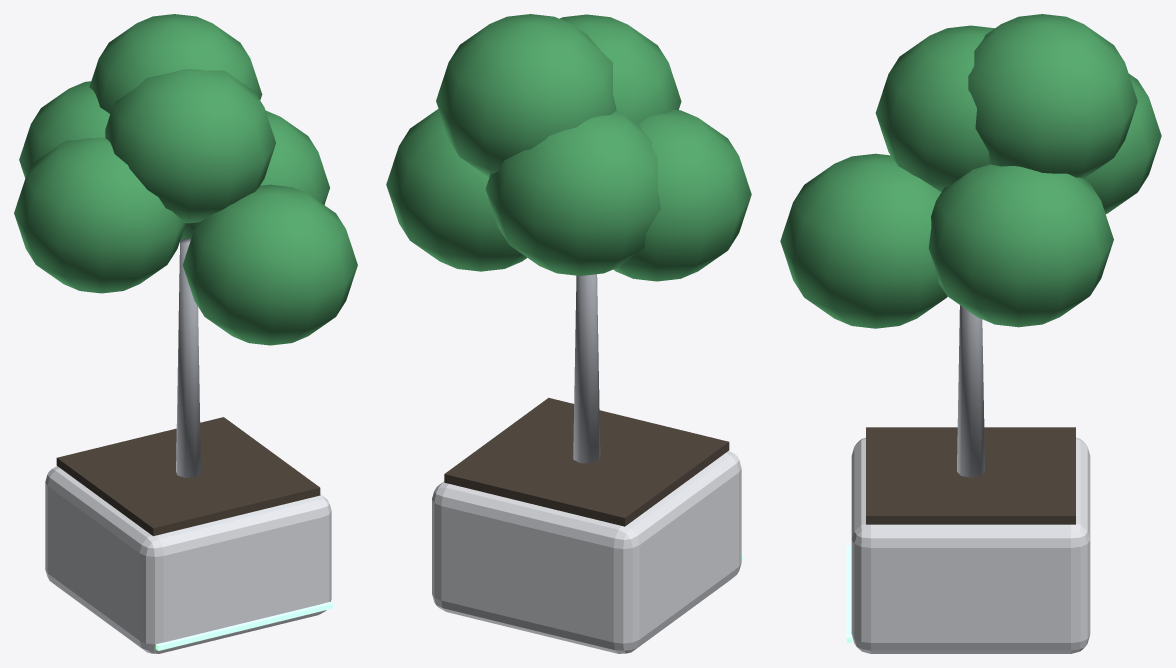
Rendered from plant_ficus_planter.glb.
The picture shows the model from 3 angles, left to right: view 1: azimuth 30°, elevation 25°; view 2: azimuth 150°, elevation 25°; view 3: azimuth 270°, elevation 25°; orthographic projection. The views are drawn at different scales.
Parts seen in each view (by area): view 1: GD_plant_ficus_planter__m4, GD_plant_ficus_planter__m0, GD_plant_ficus_planter__m1, GD_plant_ficus_planter__m3, GD_plant_ficus_planter__m2; view 2: GD_plant_ficus_planter__m4, GD_plant_ficus_planter__m0, GD_plant_ficus_planter__m1, GD_plant_ficus_planter__m3; view 3: GD_plant_ficus_planter__m4, GD_plant_ficus_planter__m0, GD_plant_ficus_planter__m1, GD_plant_ficus_planter__m3, GD_plant_ficus_planter__m2.
Boxes of the visible parts, <box> form: GD_plant_ficus_planter__m4: <box>14,14,357,345</box>; GD_plant_ficus_planter__m0: <box>45,466,331,653</box>; GD_plant_ficus_planter__m1: <box>56,417,320,536</box>; GD_plant_ficus_planter__m3: <box>176,238,200,477</box>; GD_plant_ficus_planter__m2: <box>155,601,332,650</box>; GD_plant_ficus_planter__m4: <box>386,14,751,281</box>; GD_plant_ficus_planter__m0: <box>432,451,741,653</box>; GD_plant_ficus_planter__m1: <box>444,397,729,526</box>; GD_plant_ficus_planter__m3: <box>573,274,600,463</box>; GD_plant_ficus_planter__m4: <box>780,14,1161,328</box>; GD_plant_ficus_planter__m0: <box>851,437,1090,653</box>; GD_plant_ficus_planter__m1: <box>866,427,1075,524</box>; GD_plant_ficus_planter__m3: <box>957,305,984,477</box>; GD_plant_ficus_planter__m2: <box>846,545,852,643</box>.
Size of the model in its own units: 0.8 by 1.38 by 0.8.
